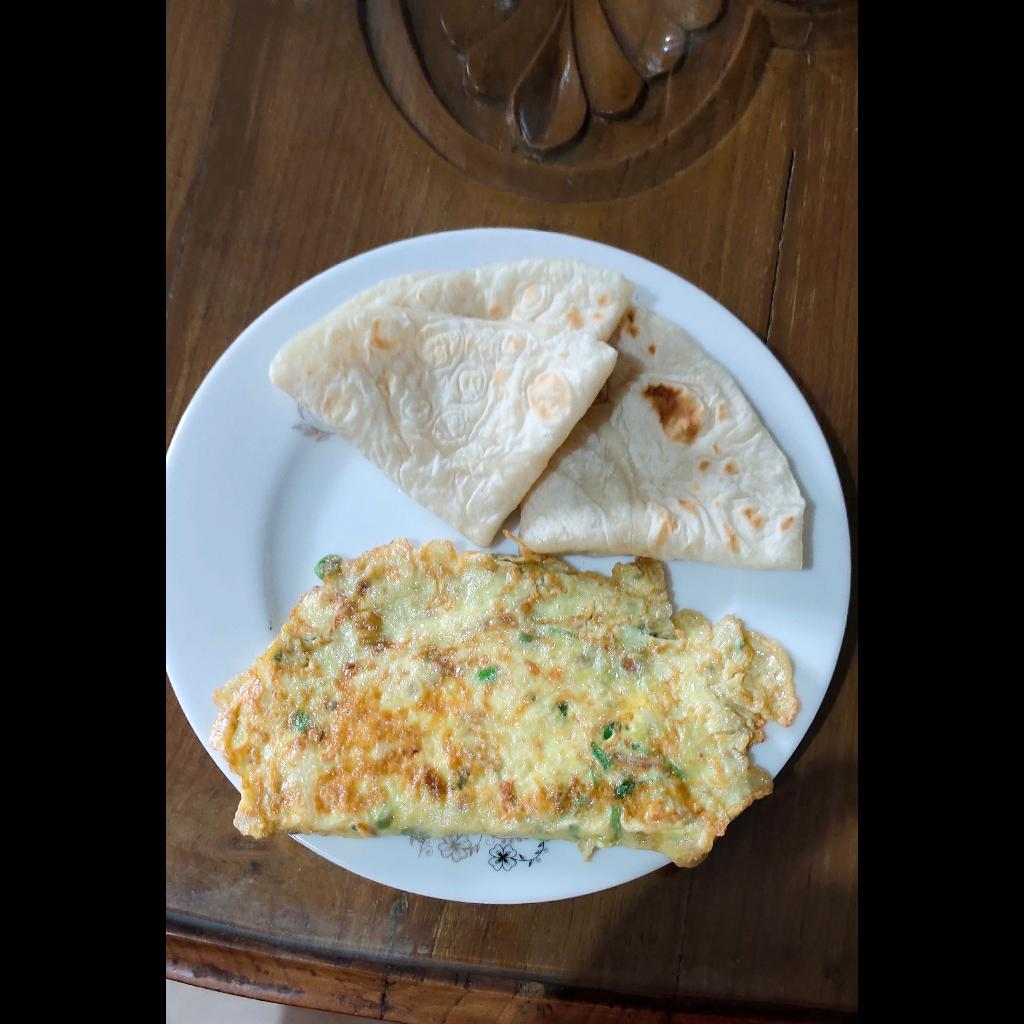egg-poached: (211, 538, 800, 871)
ruti: (272, 259, 807, 568)
